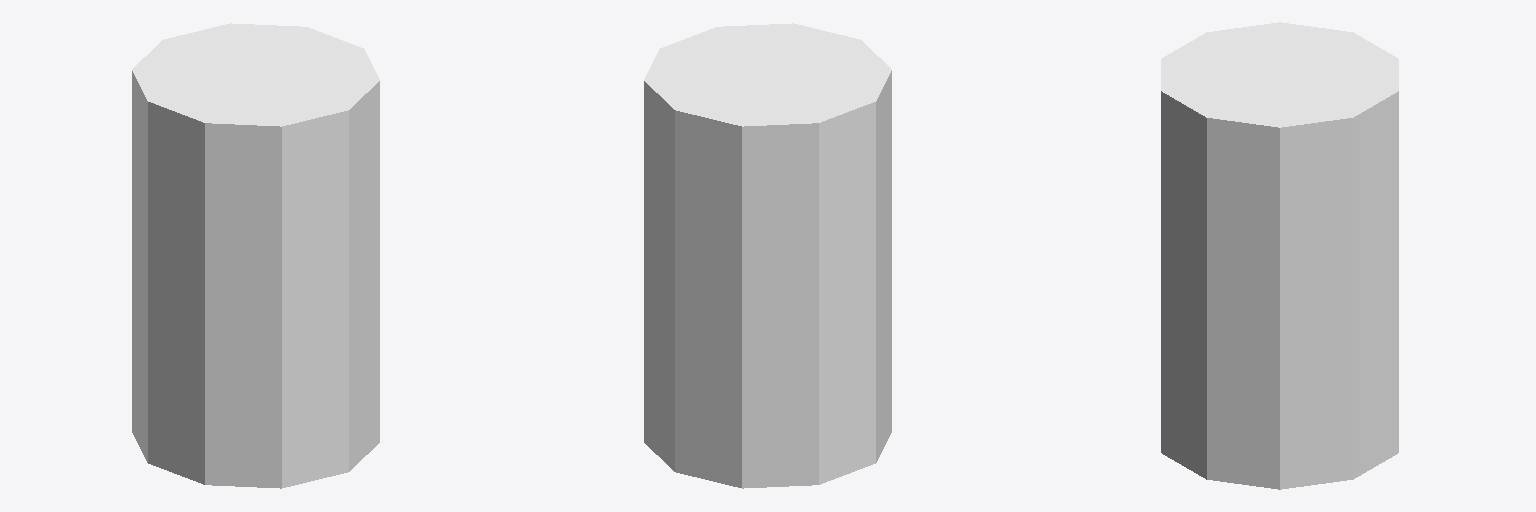
File: Cans.obj
3 views of the same model, side by side, from view 1: azimuth 30°, elevation 25°; view 2: azimuth 150°, elevation 25°; view 3: azimuth 270°, elevation 25° (orthographic).
Visible parts, largest first — view 1: Cans; view 2: Cans; view 3: Cans.
Boxes of the visible parts, x1,y1,x2,y2 form: Cans: [132, 23, 379, 488]; Cans: [644, 23, 891, 488]; Cans: [1161, 22, 1398, 489].
Size of the model in its own units: 0.2 by 0.32 by 0.1902.